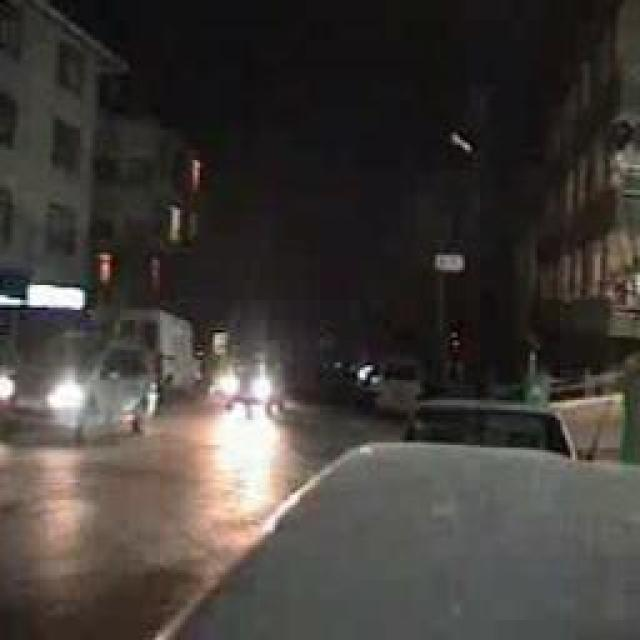other: (208, 364, 276, 406), (26, 279, 85, 314), (43, 377, 83, 411), (0, 368, 15, 408)
